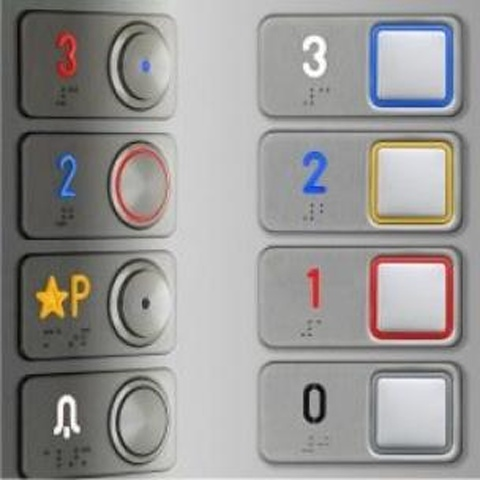0: (252, 355, 466, 469)
1: (251, 241, 466, 353)
2: (252, 124, 466, 238), (13, 129, 180, 244)
3: (252, 7, 469, 123), (13, 9, 180, 121)
alarm: (14, 364, 180, 480)
sP: (12, 246, 180, 365)
